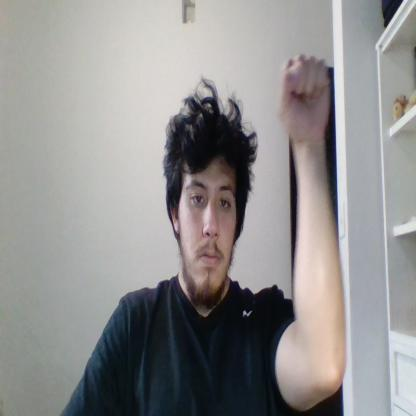S: (279, 54, 331, 140)
